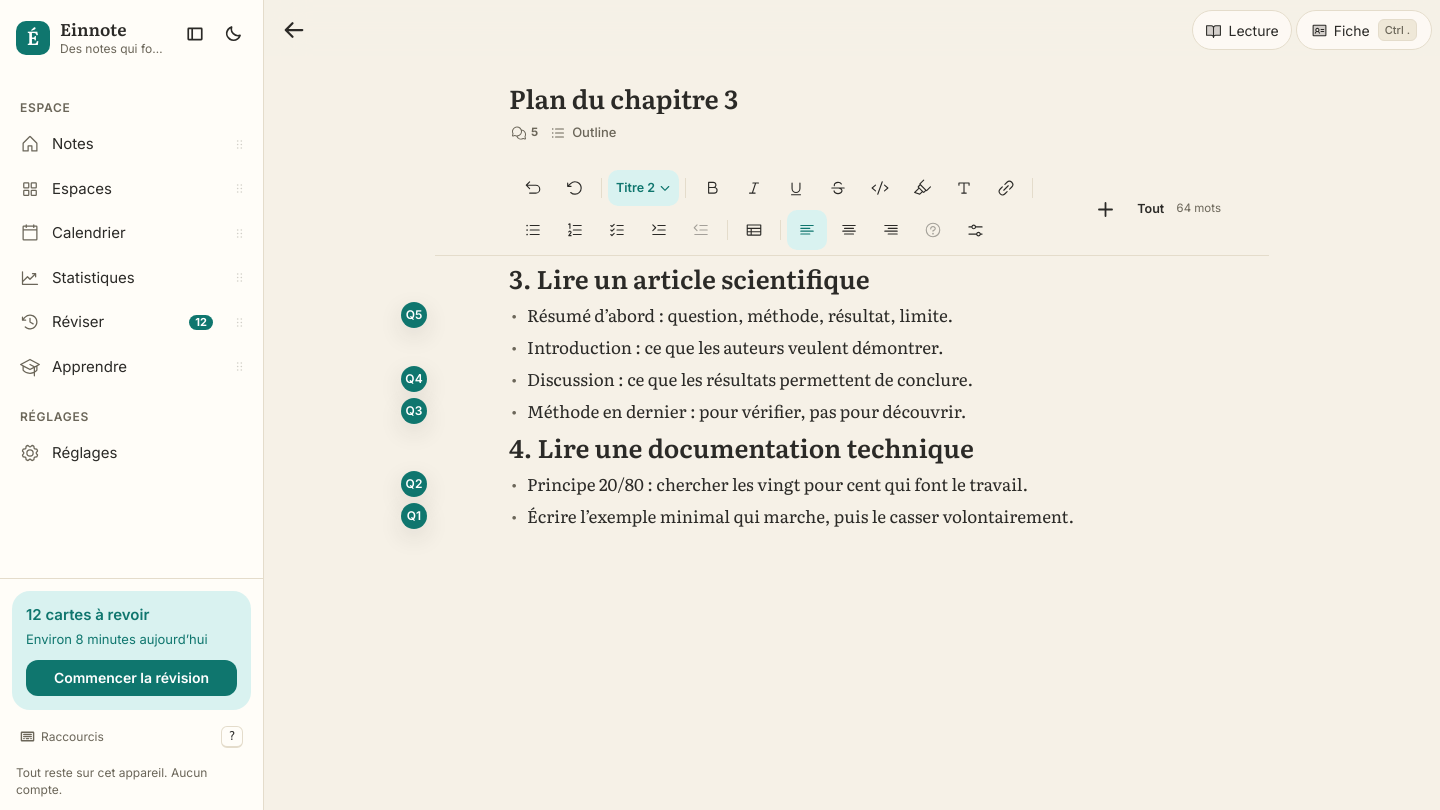
Test: Fiche de la note › s’ouvre depuis l’en-tête et groupe ses actions
The width and height of the screenshot is (1440, 810).
Click the button with aria-label "Fiche de la note" at (1364, 30), box [1296,10,1432,50]
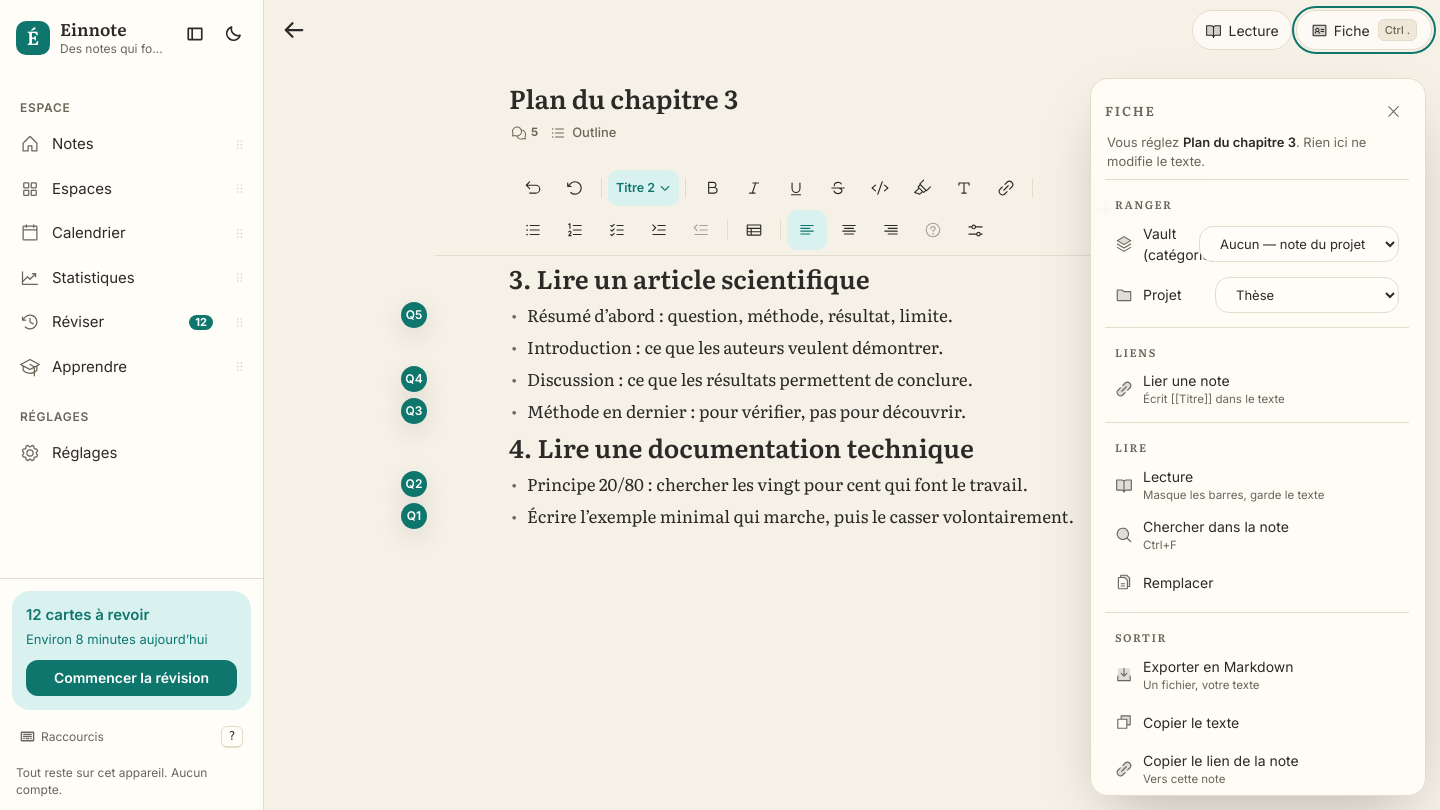
Check: the heading "Ranger" is shown, box [1115,196,1173,212]
Check: the heading "Lire" is shown, box [1115,439,1148,455]
Check: the heading "Sortir" is shown, box [1115,629,1167,645]
